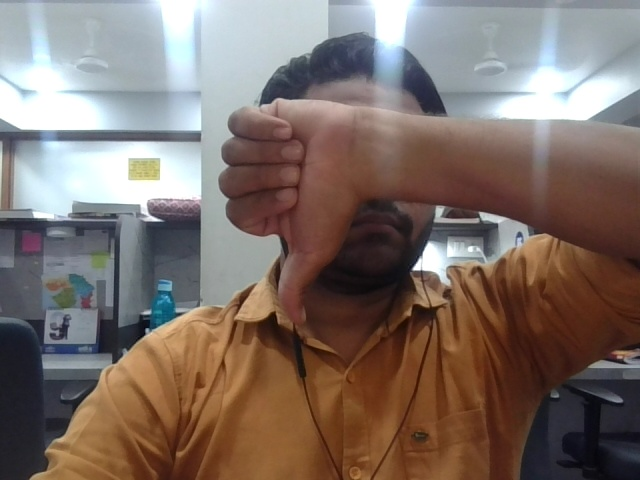ThumbsDown: (217, 96, 379, 332)
